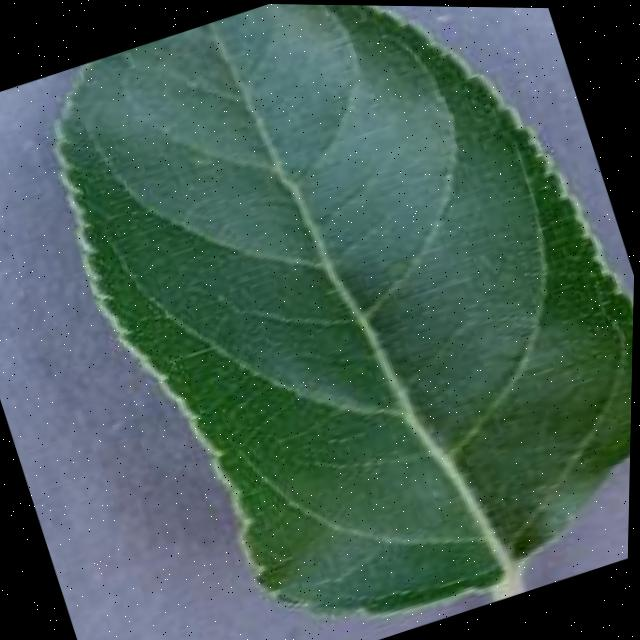healthy: (8, 0, 640, 640)
